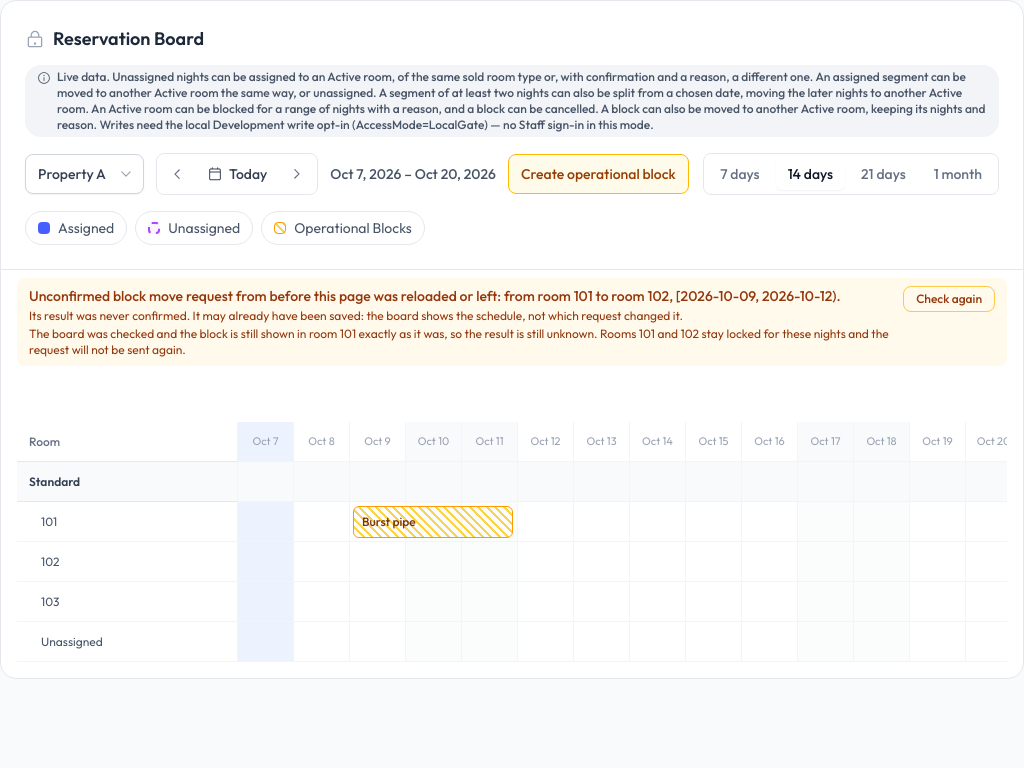
Scenario: a restored block move on the board › a failed re-read resolves nothing and says so
The image size is (1024, 768).
Click the button "Check again" at (949, 299), box [903,286,995,312]
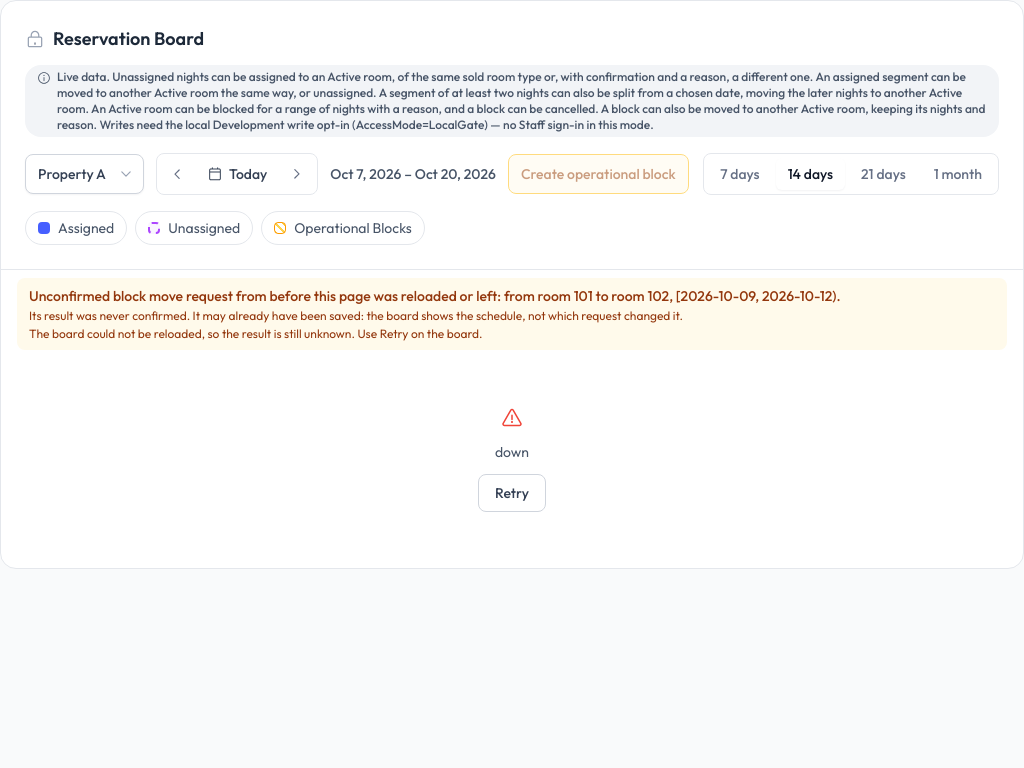
Expected: the message with test id "uncertain-block-notice" shows "could not be reloaded, so the result is still unknown", [29,326,483,341]
